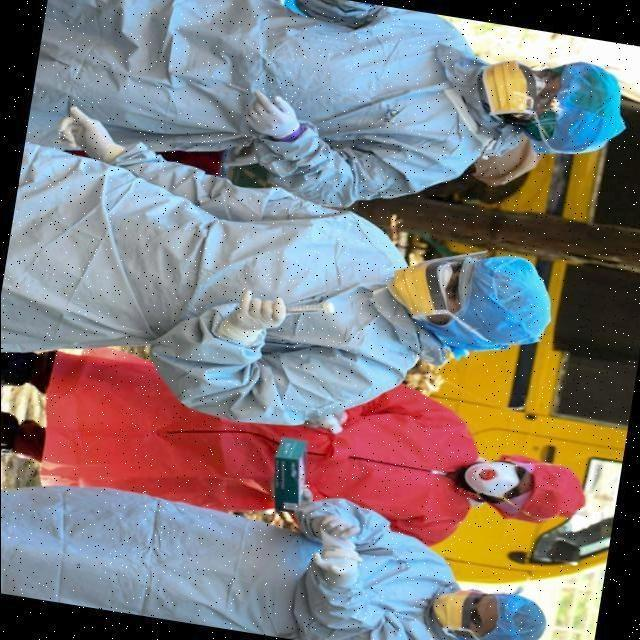apron: (229, 282, 293, 356), (300, 512, 369, 580), (62, 95, 126, 162), (249, 79, 299, 150)
